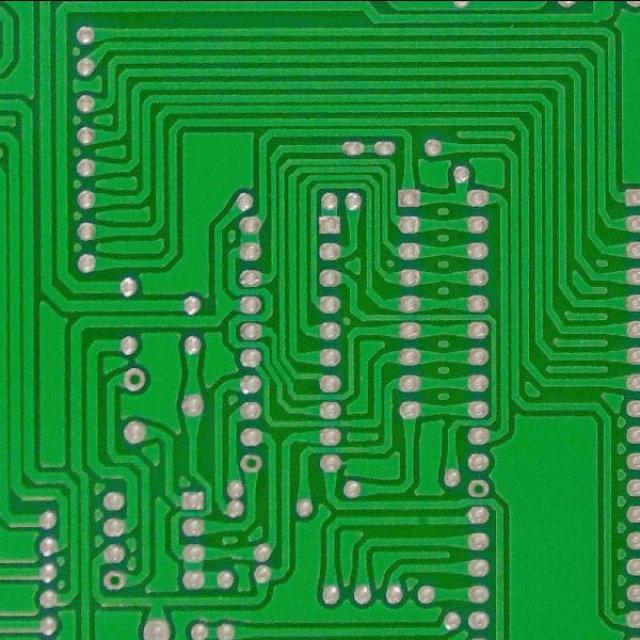Missing_Hole: (121, 364, 148, 394), (101, 569, 128, 593), (465, 477, 492, 499), (239, 452, 264, 475)
